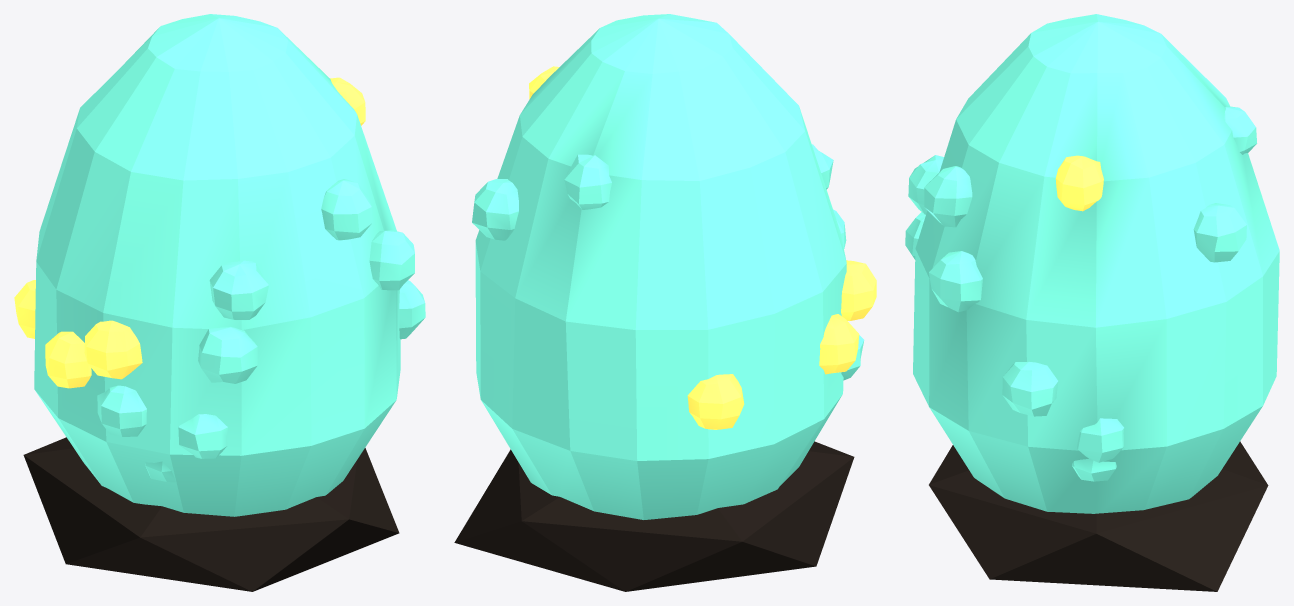
Rendered from find_alien_egg.glb.
The picture shows the model from 3 angles, left to right: view 1: azimuth 30°, elevation 25°; view 2: azimuth 150°, elevation 25°; view 3: azimuth 270°, elevation 25°; orthographic projection. The views are drawn at different scales.
Parts seen in each view (by area): view 1: AlienEgg; view 2: AlienEgg; view 3: AlienEgg.
Part boxes in pixels (<box>): AlienEgg: <box>14,14,425,591</box>; AlienEgg: <box>454,14,876,591</box>; AlienEgg: <box>905,14,1279,591</box>.
Bounding box in the file's own units: 0.2876 × 0.4217 × 0.2673.
